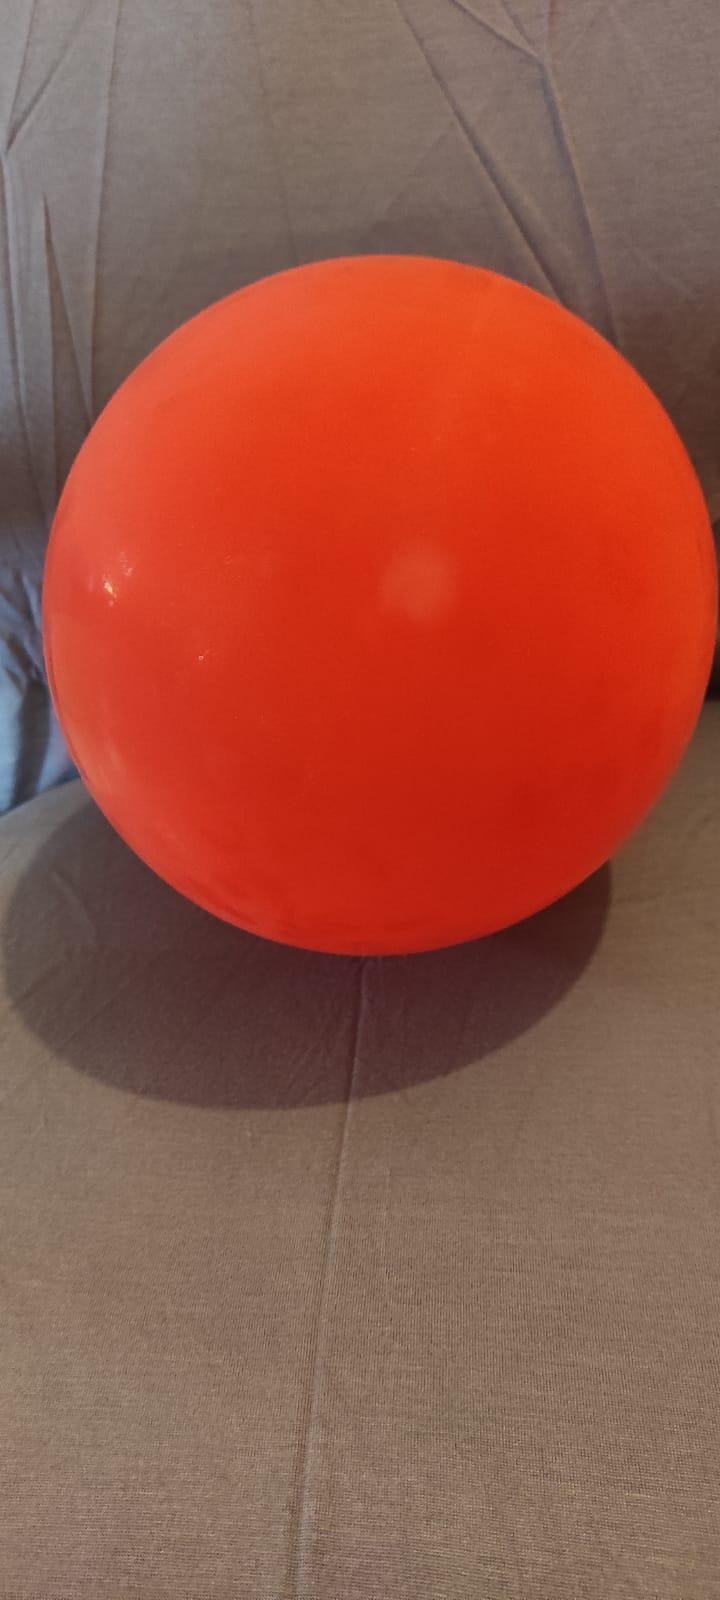red: (34, 251, 720, 954)
